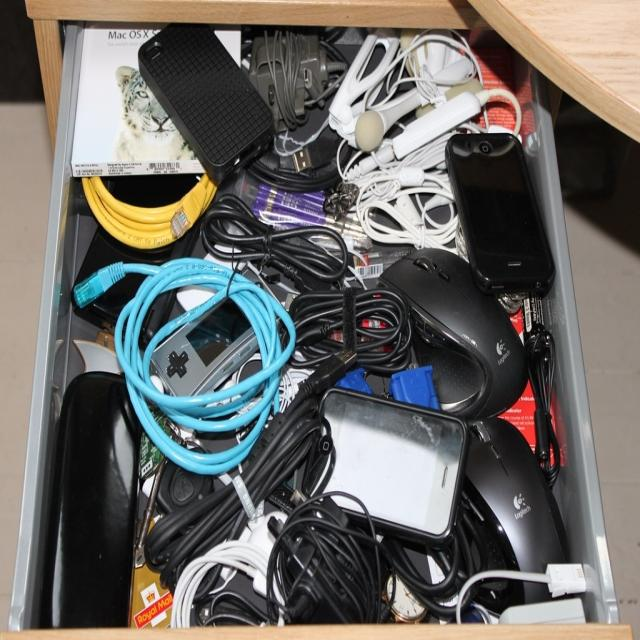Cable: (47, 14, 615, 633)
